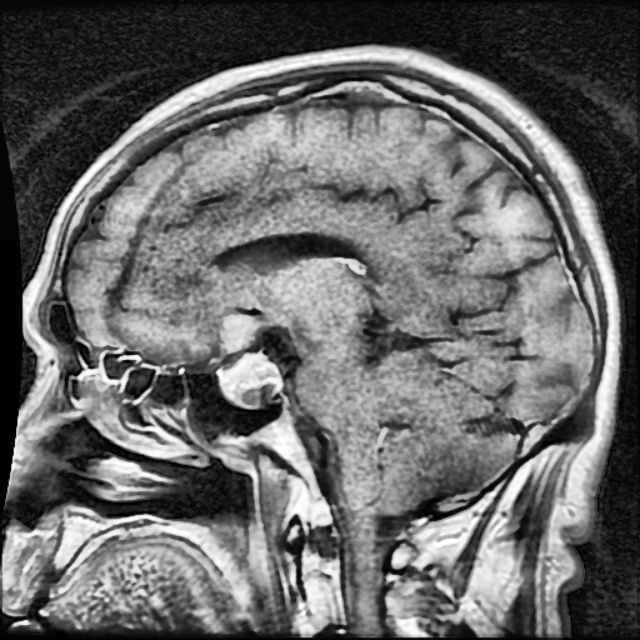Pituitary: (217, 310, 283, 407)
